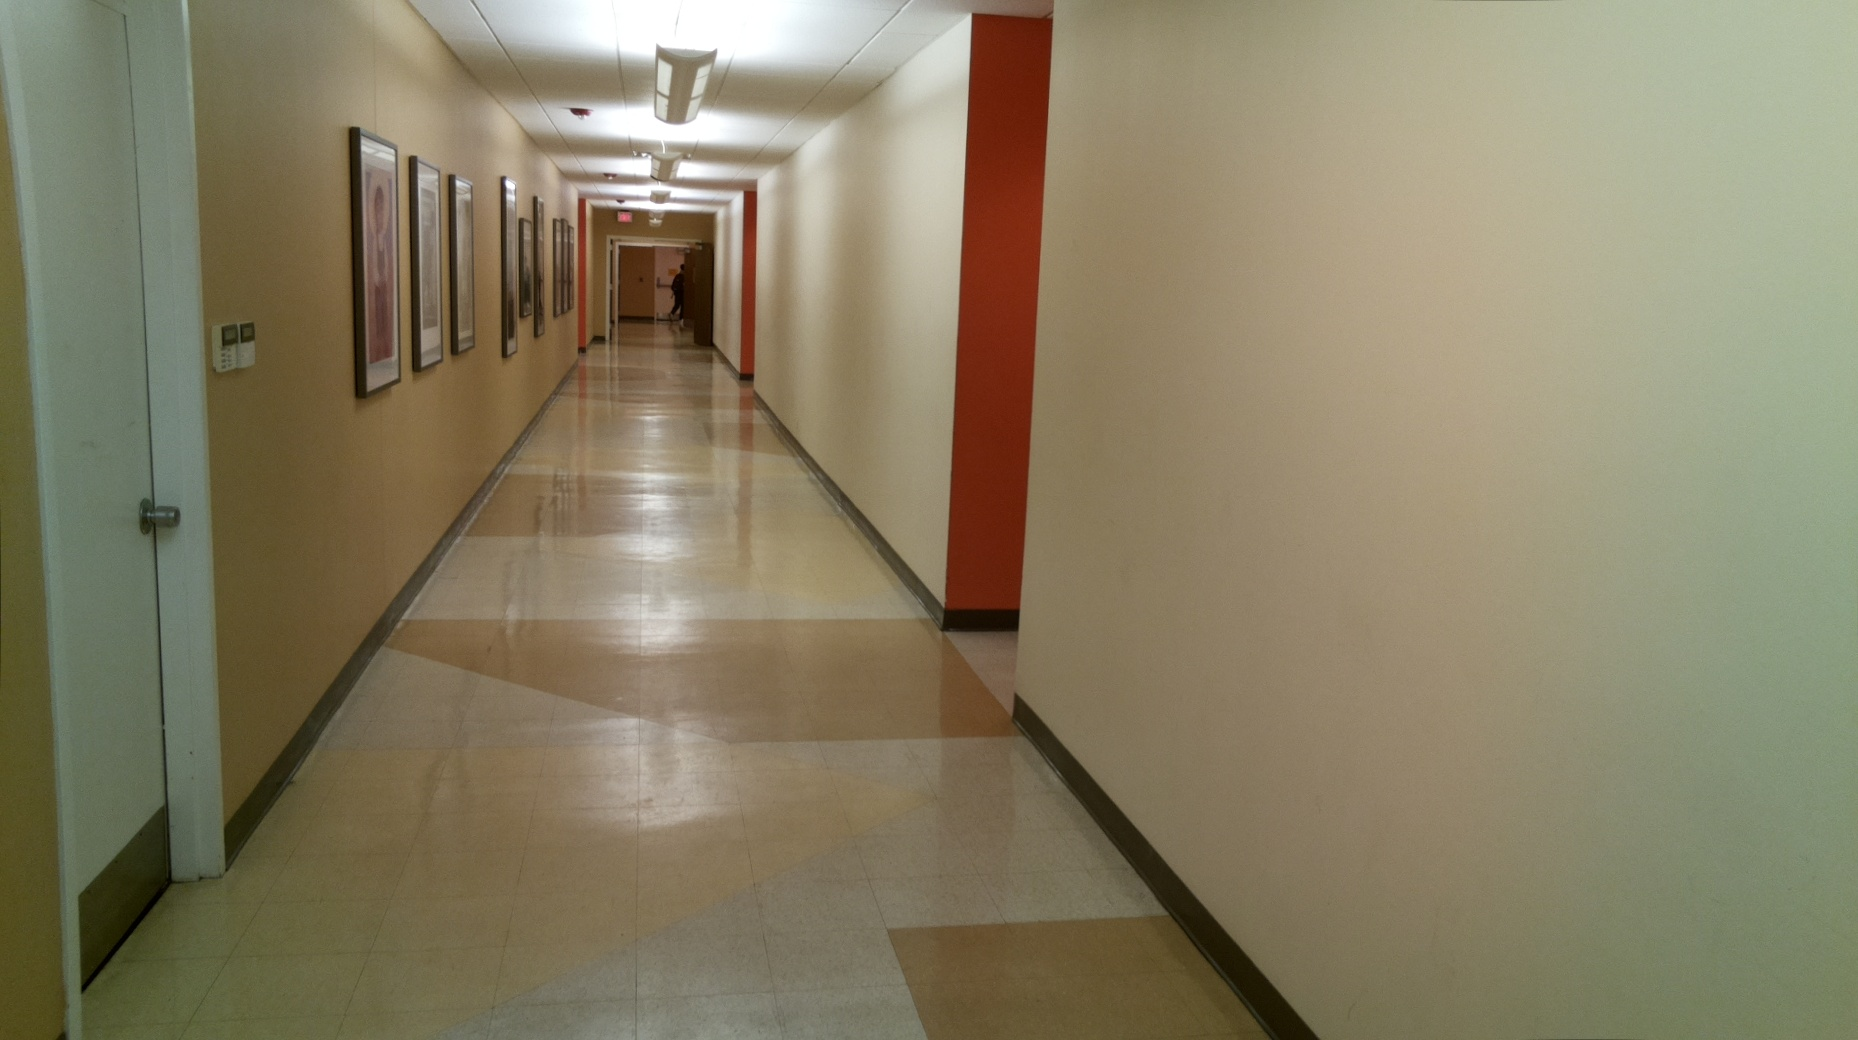exit sign: (616, 211, 634, 225)
